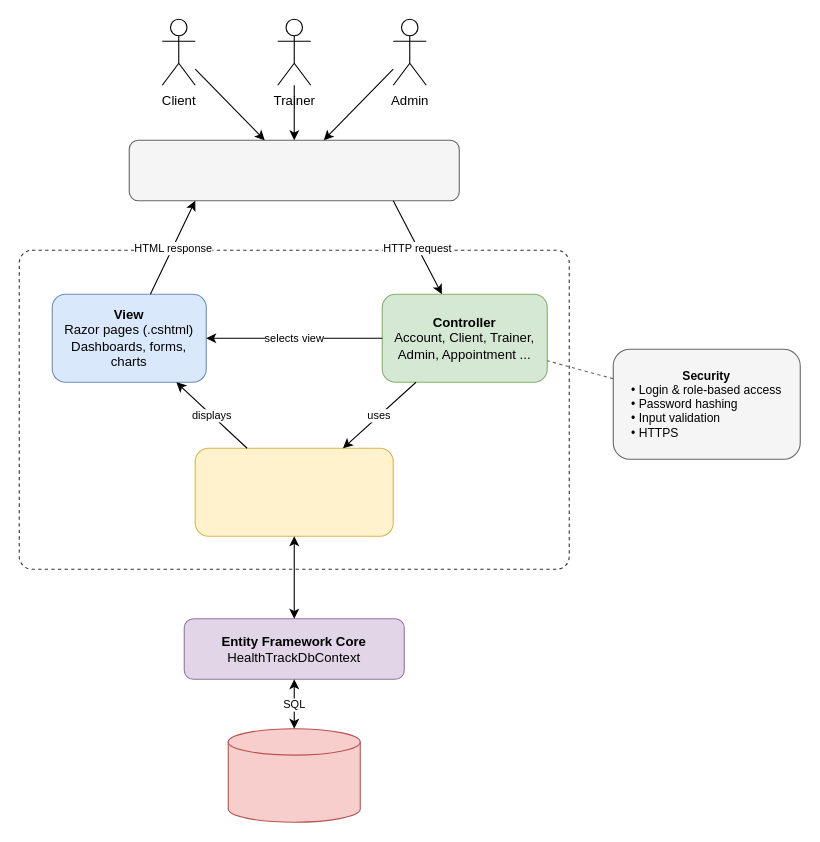
Image size: 820x842. Some labels were removed from this diagram. Here are the shapes that lost their labels. From the top down, the box of each, then its label:
(128, 139, 459, 201): Web Browser (HTML, CSS, Bootstrap, JavaScript)
(18, 249, 569, 569): HealthTrack – ASP.NET Core MVC (.NET 8)
(194, 447, 393, 536): Model Person, Client, Trainer, Admin, Plans, Logs, Appointment ...
(227, 728, 360, 822): SQL Server HealthTrackDB
